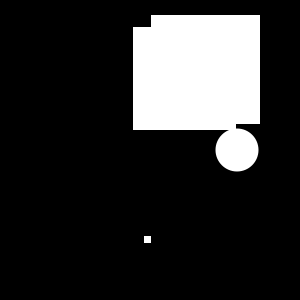circle: (151, 15, 260, 124), (133, 27, 236, 130), (144, 236, 151, 243)
rectangle: (216, 128, 258, 172)
